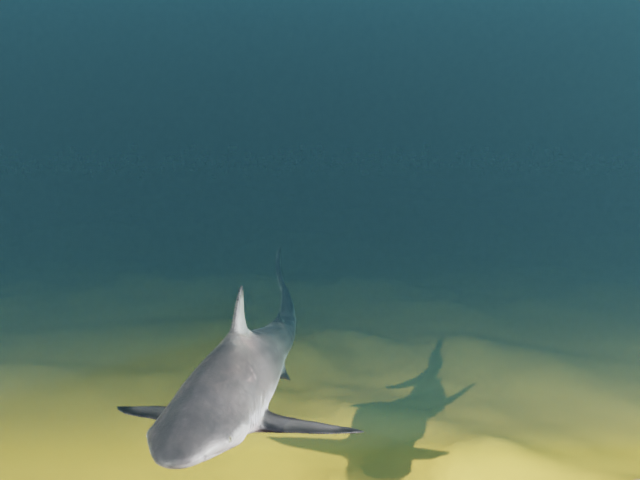Carribean Shark.001: (116, 245, 364, 469)
